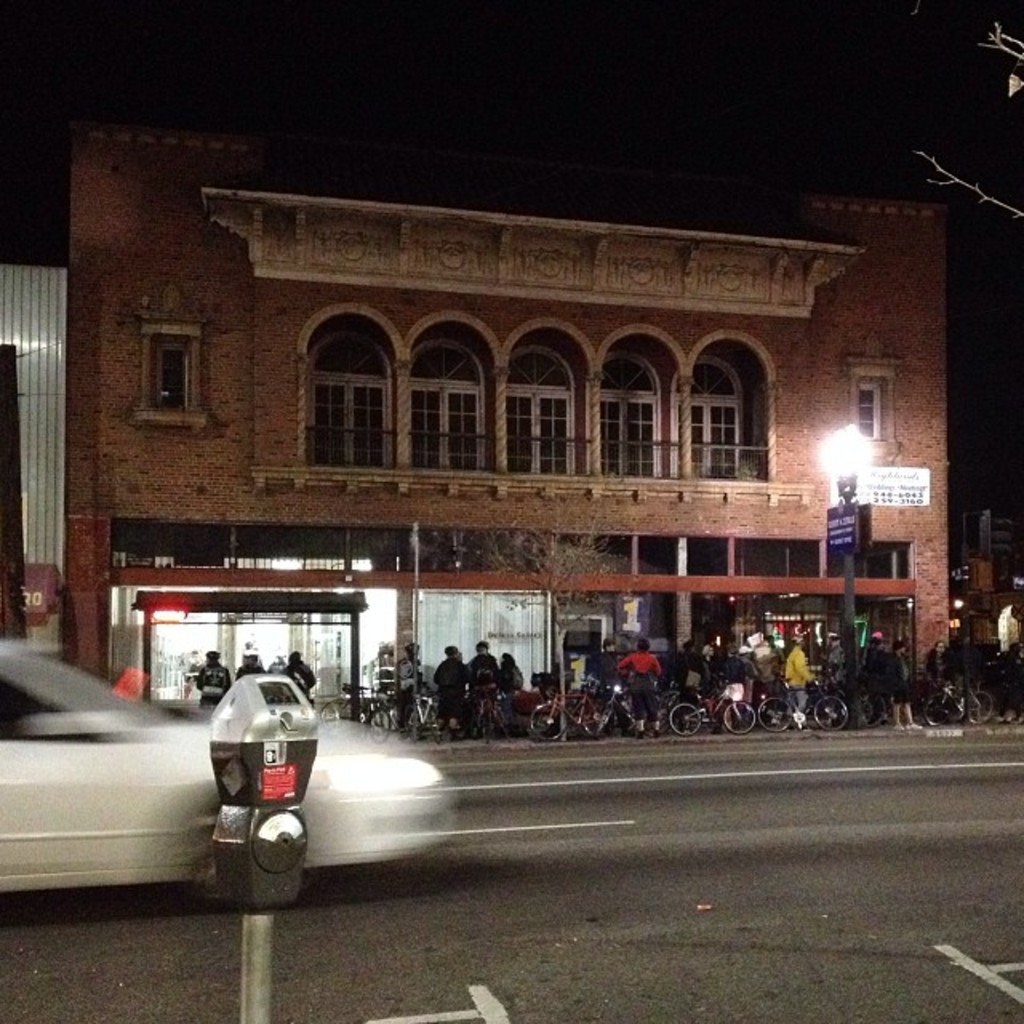Car: (0, 640, 467, 897)
